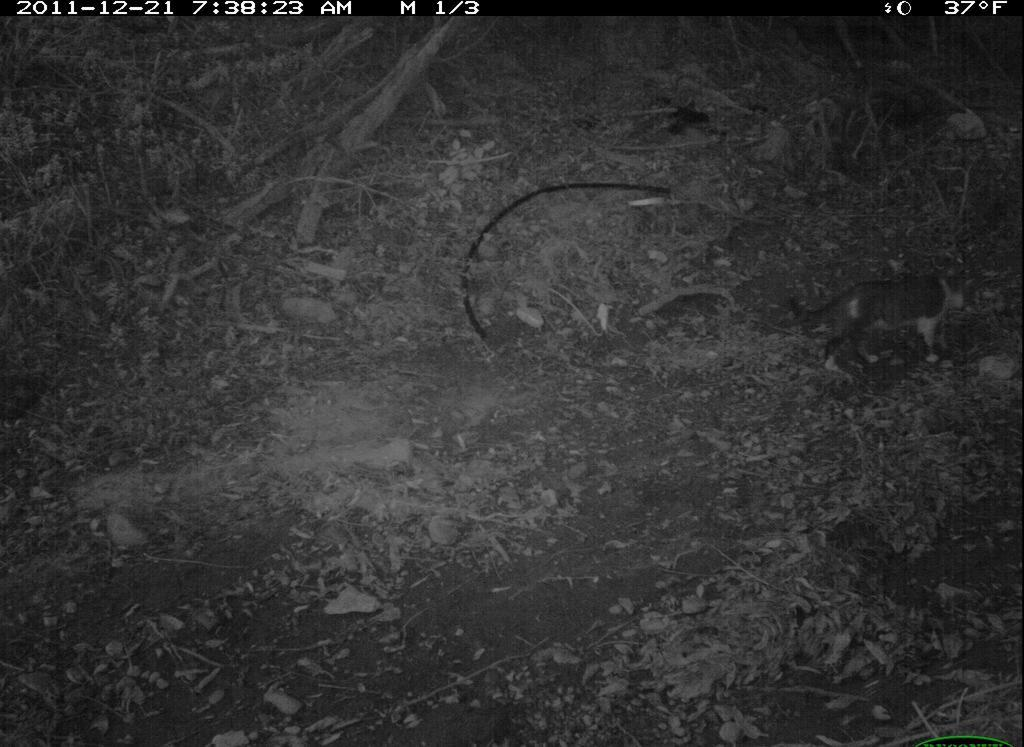cat: (771, 258, 1005, 365)
